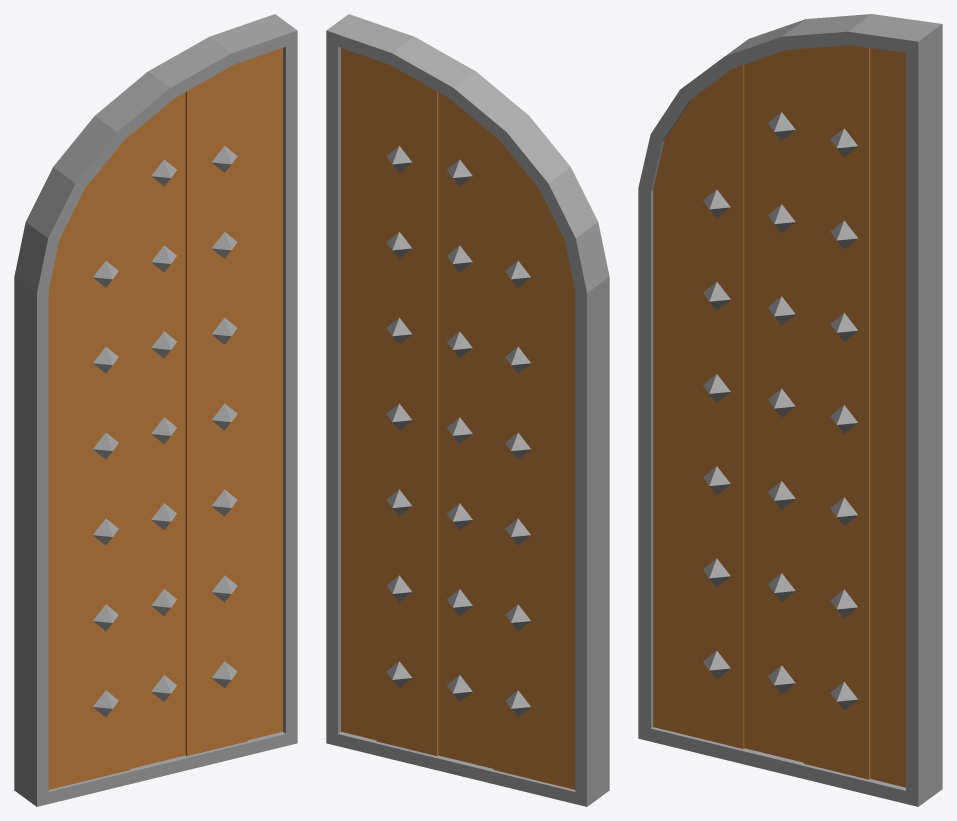
File: Prop_Gothic_Door_01.FBX
3 renders of one model, left to right at view 1: azimuth 30°, elevation 25°; view 2: azimuth 150°, elevation 25°; view 3: azimuth 330°, elevation 25°, orthographic. The views are drawn at different scales.
Visible parts, largest first — view 1: Prop_Gothic_Door_01; view 2: Prop_Gothic_Door_01; view 3: Prop_Gothic_Door_01.
Boxes of the visible parts, <box> form: Prop_Gothic_Door_01: <box>14,14,297,806</box>; Prop_Gothic_Door_01: <box>326,14,609,806</box>; Prop_Gothic_Door_01: <box>638,14,942,806</box>.
Size of the model in its own units: 836 by 2184 by 180.
